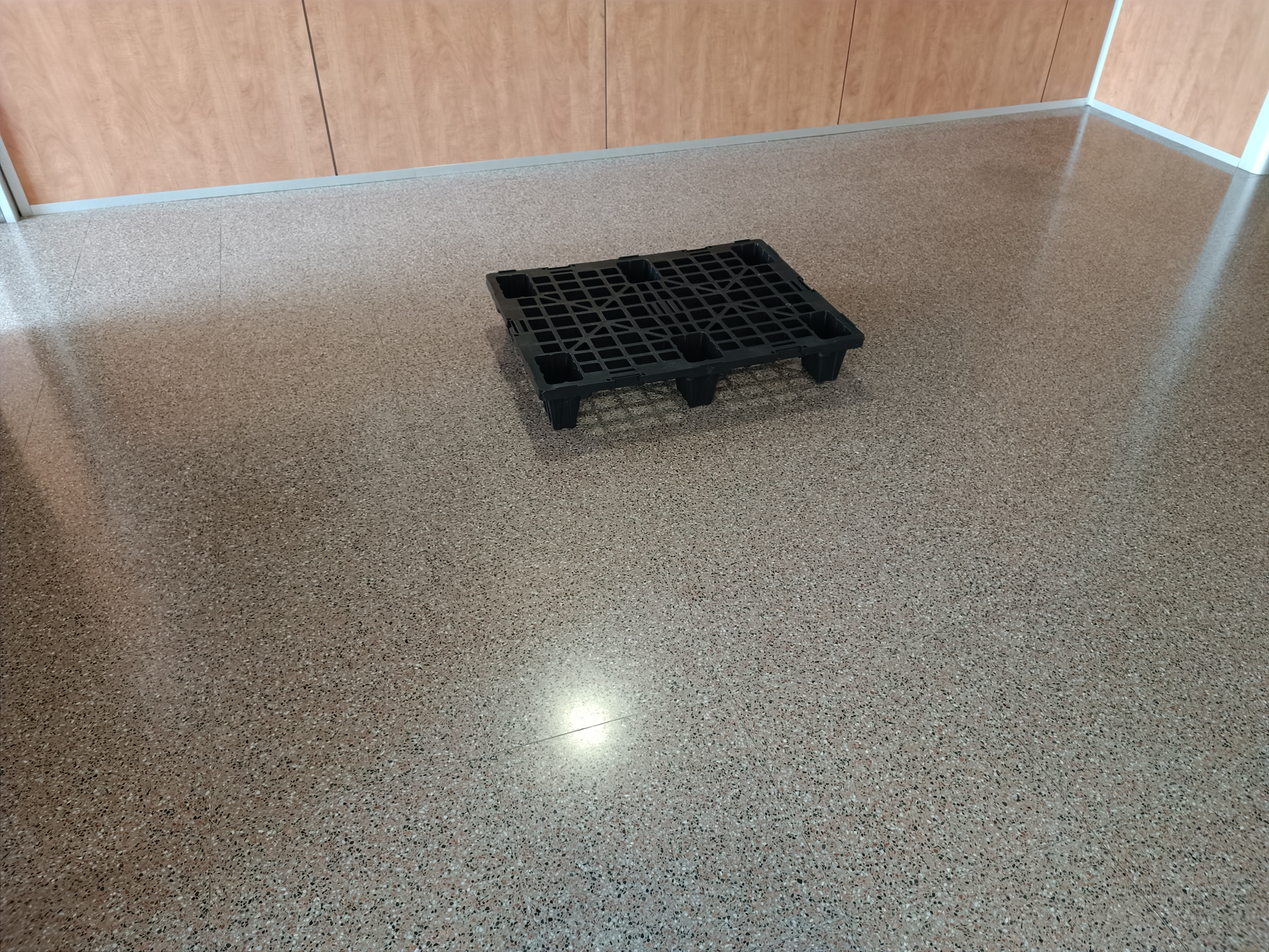block: (533, 384, 586, 433), (812, 341, 854, 390), (676, 372, 716, 407)
front: (535, 332, 874, 439)
hole pallet: (571, 373, 684, 430), (712, 349, 813, 405)
